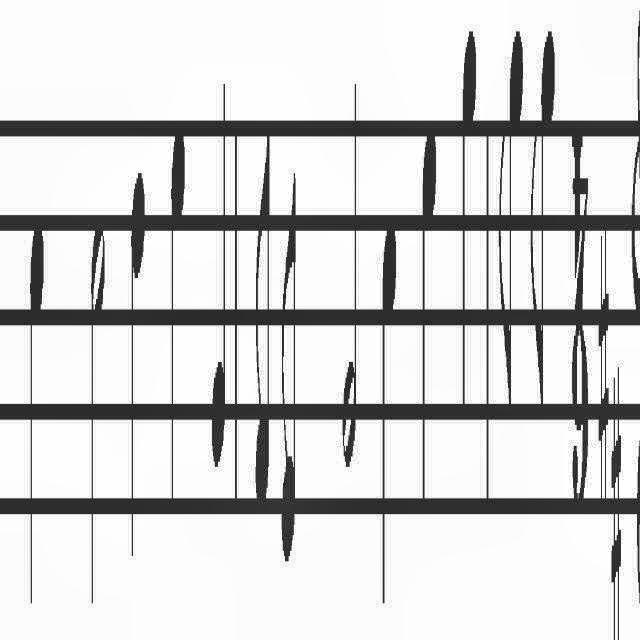Bass-clef: (630, 0, 640, 640)
Diez: (611, 356, 623, 640), (598, 224, 610, 502)
Eighth-note: (498, 18, 524, 408), (530, 29, 554, 414), (279, 164, 297, 580), (254, 108, 270, 520)
Half-note: (342, 64, 358, 476), (90, 213, 104, 615)
Quarter-note: (27, 222, 47, 626), (419, 114, 437, 522), (167, 114, 185, 522), (380, 210, 398, 612), (130, 145, 146, 582), (459, 26, 476, 420), (210, 70, 226, 472)
